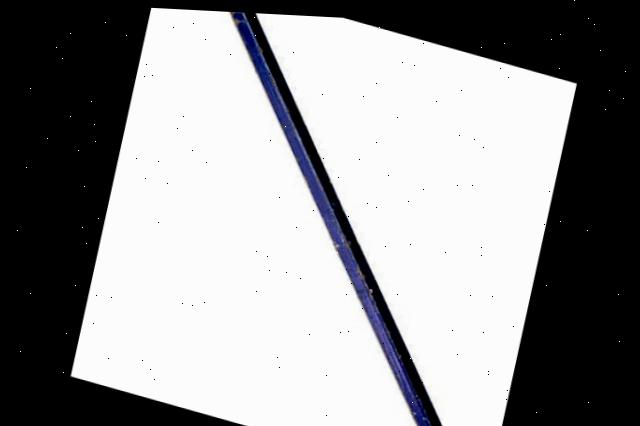crow bar: (224, 9, 442, 426)
